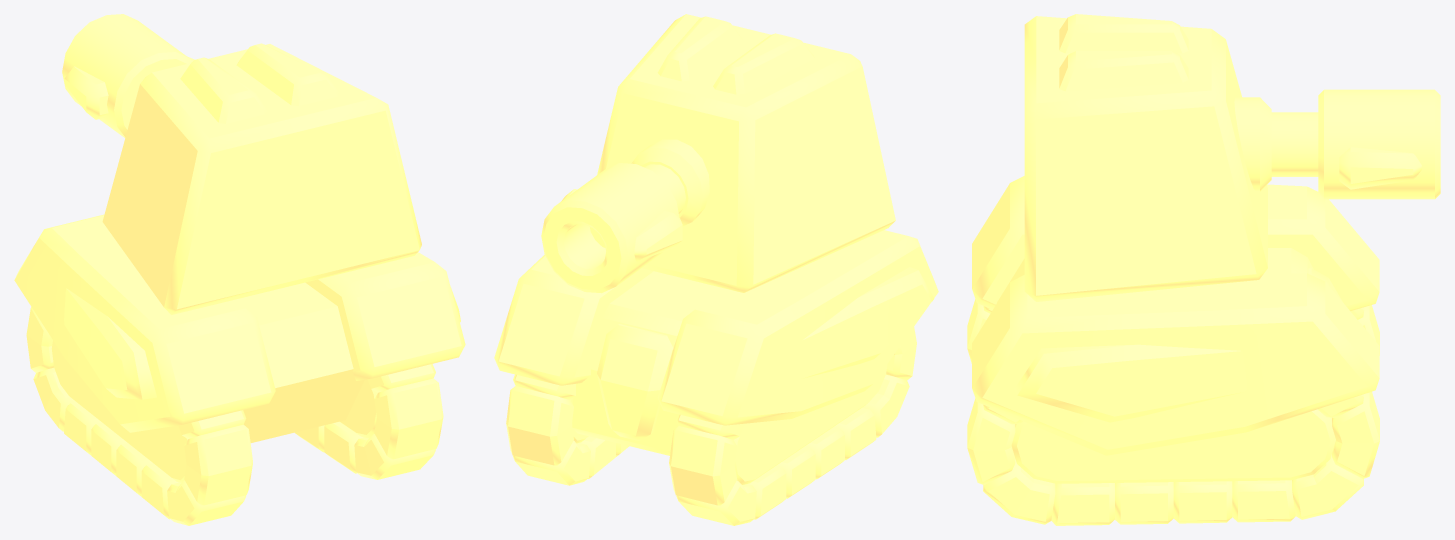
The model's file is Tanks-Yellow.fbx.
3 renders of one model, left to right at view 1: azimuth 30°, elevation 25°; view 2: azimuth 150°, elevation 25°; view 3: azimuth 270°, elevation 25°, orthographic. The views are drawn at different scales.
Visible parts, largest first — view 1: Lv1-Rail-Yellow, Lv1-Body-Yellow, Lv1-Cannon-Yellow; view 2: Lv1-Rail-Yellow, Lv1-Body-Yellow, Lv1-Cannon-Yellow; view 3: Lv1-Rail-Yellow, Lv1-Body-Yellow, Lv1-Cannon-Yellow.
Boxes of the visible parts, x1,y1,x2,y2 form: Lv1-Rail-Yellow: (14,214,465,525); Lv1-Body-Yellow: (102,43,421,314); Lv1-Cannon-Yellow: (62,14,195,137); Lv1-Rail-Yellow: (494,230,938,525); Lv1-Body-Yellow: (597,14,895,292); Lv1-Cannon-Yellow: (541,139,709,293); Lv1-Rail-Yellow: (967,176,1379,525); Lv1-Body-Yellow: (1024,14,1267,301); Lv1-Cannon-Yellow: (1234,89,1440,199).
Bounding box in the file's own units: 1.78 × 2.05 × 2.06.
